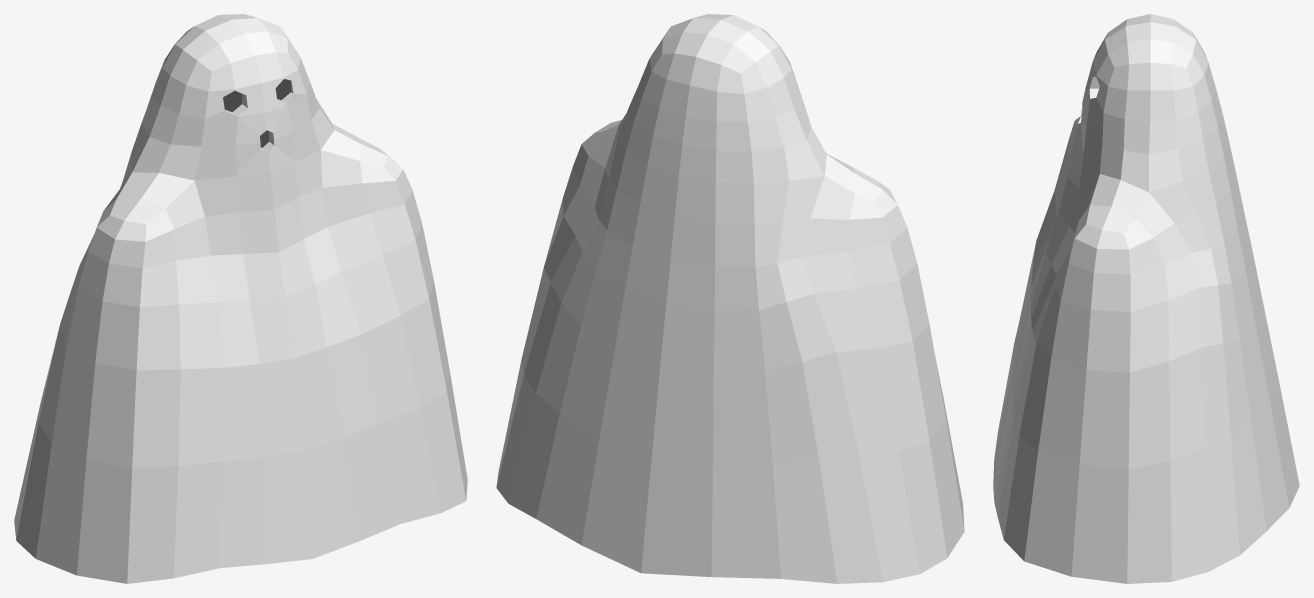
File: Ghost_3.fbx
3 views of the same model, side by side, from view 1: azimuth 30°, elevation 25°; view 2: azimuth 150°, elevation 25°; view 3: azimuth 270°, elevation 25° (orthographic). The views are drawn at different scales.
Visible parts, largest first — view 1: Ghost_3; view 2: Ghost_3; view 3: Ghost_3.
Boxes of the visible parts, box(x1,y1,x2,y2) form: Ghost_3: box(14, 14, 467, 583); Ghost_3: box(496, 14, 964, 583); Ghost_3: box(993, 14, 1299, 583).
Size of the model in its own units: 159 by 105 by 176.
